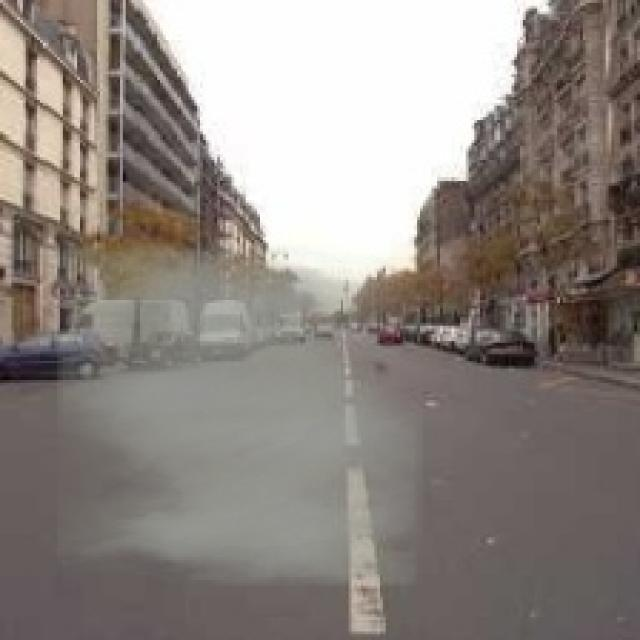Smoke: (57, 243, 423, 586)
